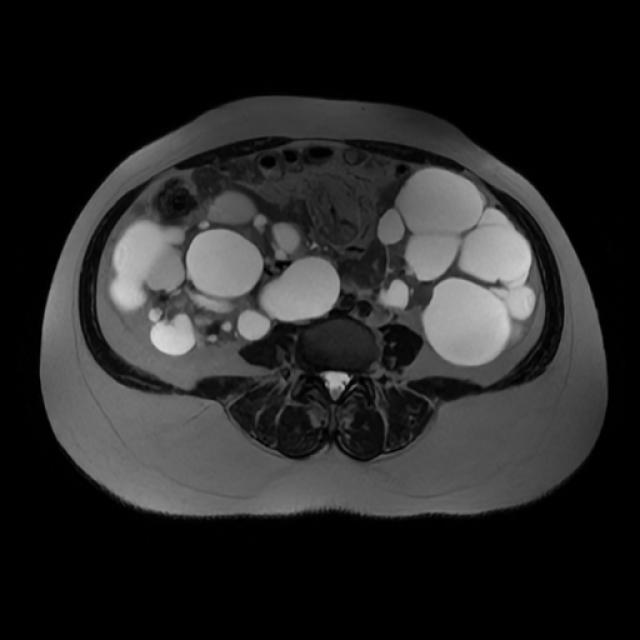sag: (112, 190, 338, 354)
sol: (381, 166, 542, 366)
